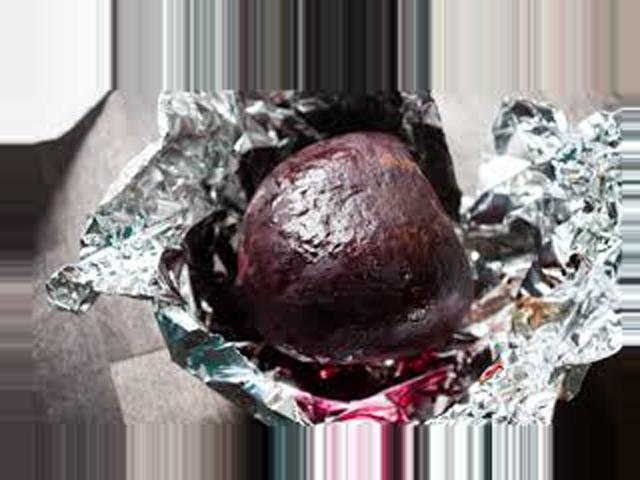beet: (232, 130, 474, 354)
